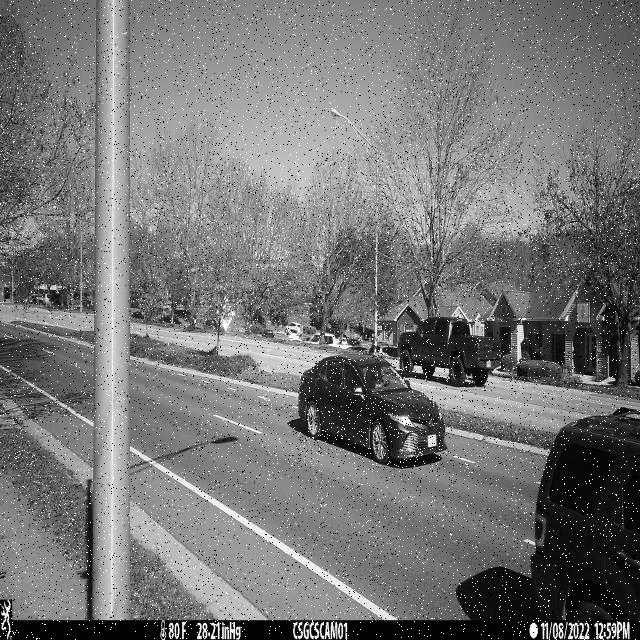Sedan: (298, 355, 448, 465)
